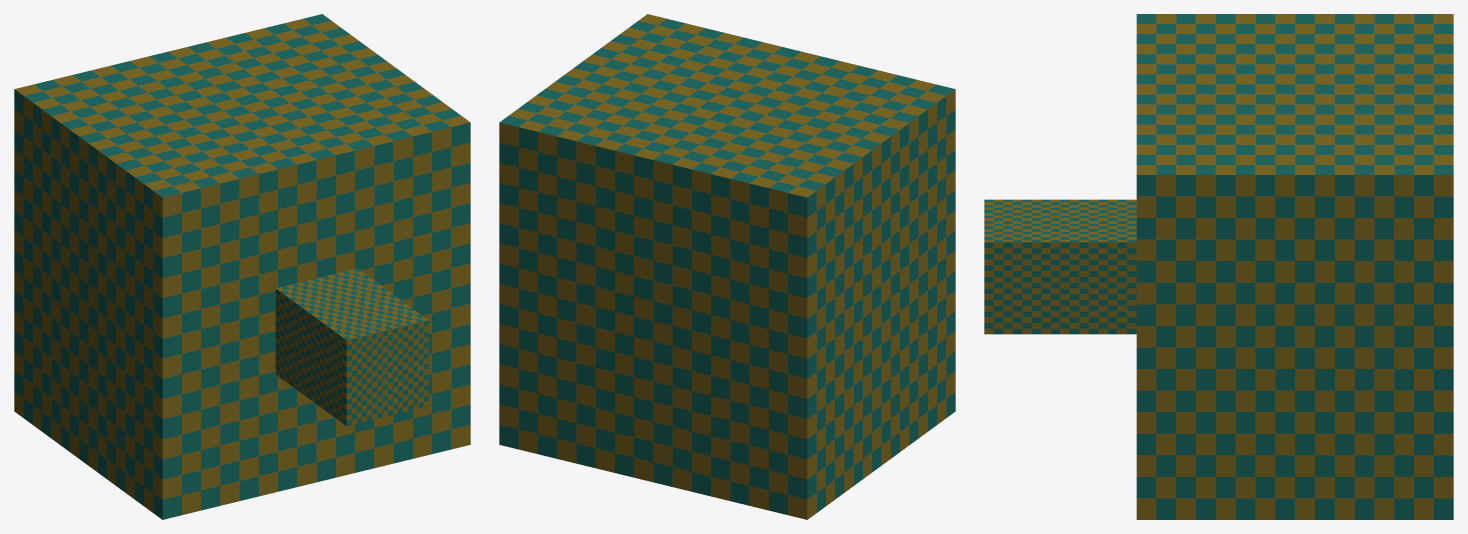
File: kettle.glb
3 views of the same model, side by side, from view 1: azimuth 30°, elevation 25°; view 2: azimuth 150°, elevation 25°; view 3: azimuth 270°, elevation 25° (orthographic). The views are drawn at different scales.
Parts seen in each view (by area): view 1: SM_K_LOD0, SM_K_Top_LOD0; view 2: SM_K_LOD0; view 3: SM_K_LOD0, SM_K_Top_LOD0.
Part boxes in pixels (x1=…): SM_K_LOD0: x1=14, y1=14, x2=470, y2=519; SM_K_Top_LOD0: x1=275, y1=268, x2=428, y2=426; SM_K_LOD0: x1=499, y1=14, x2=955, y2=519; SM_K_LOD0: x1=1136, y1=14, x2=1453, y2=519; SM_K_Top_LOD0: x1=984, y1=199, x2=1136, y2=334.
Size of what is drawn, in the model's own units: 0.3 by 0.3 by 0.37.
Materials: 1 (1 with a texture image).
